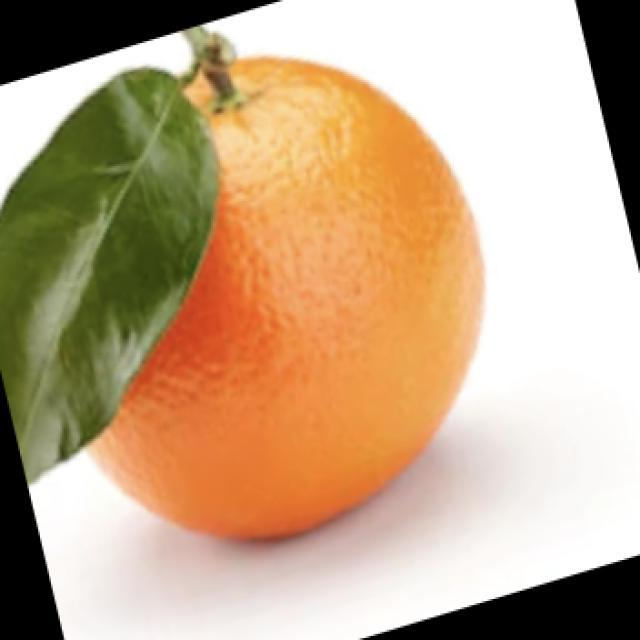matang: (92, 56, 483, 538)
